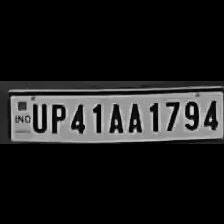1: (86, 99, 106, 133), (144, 97, 160, 130)
4: (66, 99, 88, 134), (200, 95, 220, 129)
7: (160, 97, 180, 131)
9: (180, 96, 200, 130)
A: (105, 99, 125, 134), (124, 99, 144, 134)
P: (46, 99, 66, 133)
U: (28, 100, 48, 132)
